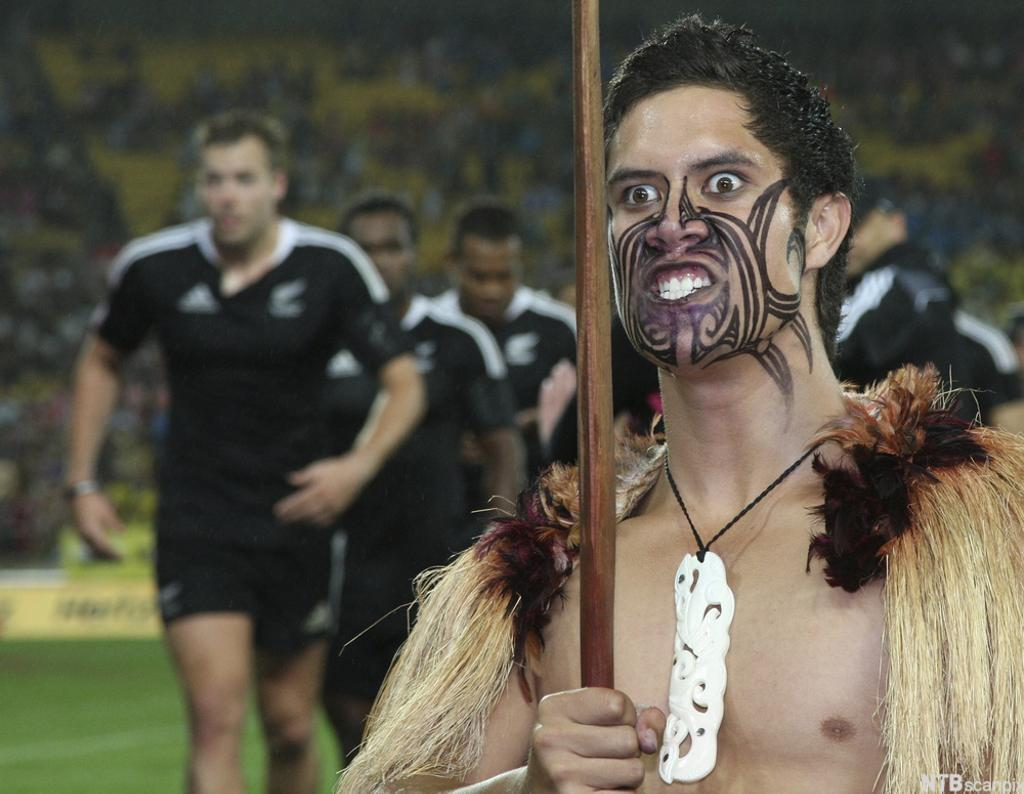face: (606, 90, 806, 368), (200, 146, 272, 244), (344, 212, 410, 310), (464, 238, 520, 320)
